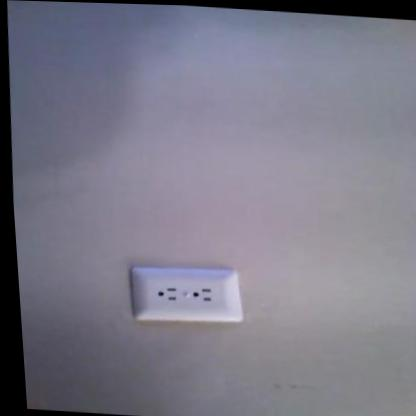OUTLET: (129, 264, 243, 324)
